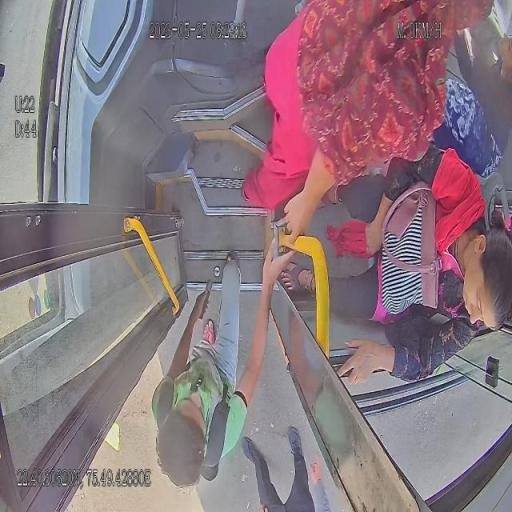persona: (241, 0, 503, 250), (278, 144, 511, 387), (151, 234, 297, 490), (240, 427, 328, 512)
